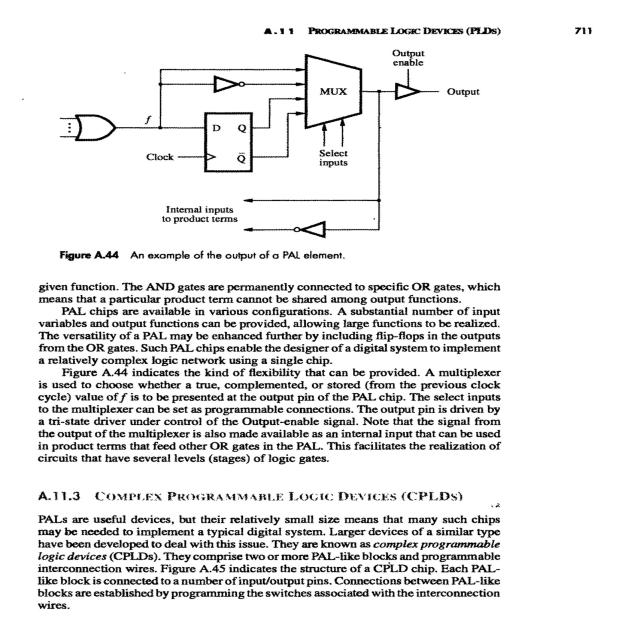diagram: (18, 42, 536, 270)
